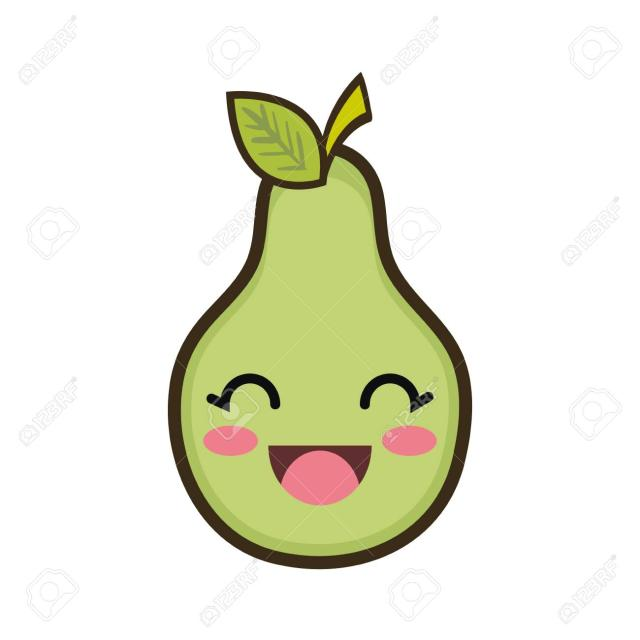pera: (136, 48, 512, 582)
